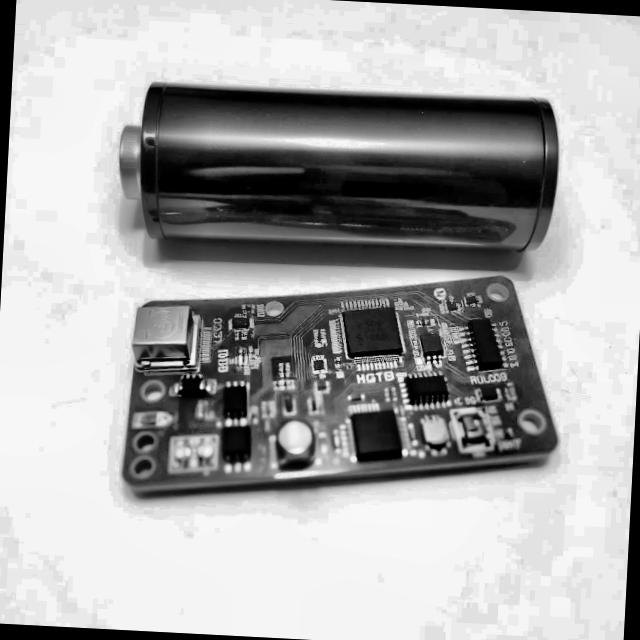Battery: (114, 79, 560, 258)
PCB: (118, 259, 566, 526)
